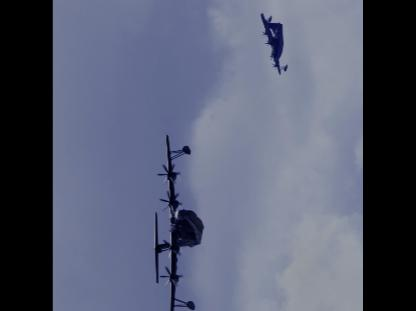Tu95: (153, 134, 204, 309), (260, 12, 287, 74)
